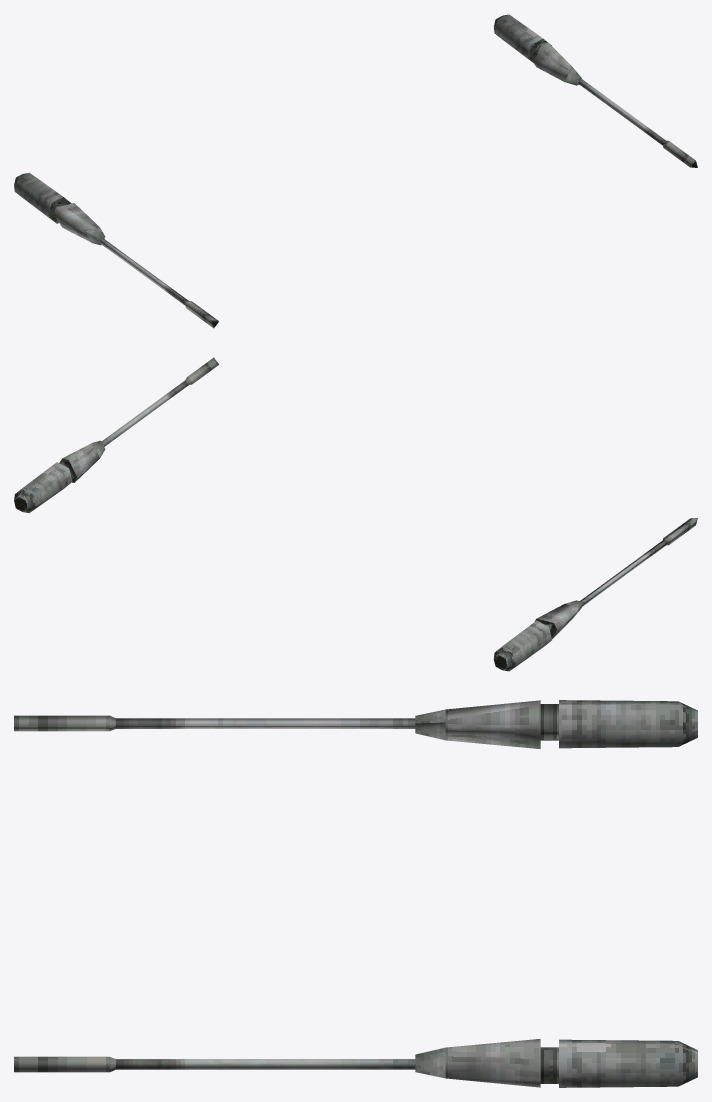
Rendered from xwing_weapon1_neg_s05_l2.fbx.
3 renders of one model, top to bottom at view 1: azimuth 30°, elevation 25°; view 2: azimuth 150°, elevation 25°; view 3: azimuth 270°, elevation 25°, orthographic. The views are drawn at different scales.
Parts seen in each view (by area): view 1: mesh_node; view 2: mesh_node; view 3: mesh_node.
Part boxes in pixels (bbox=[...]): mesh_node: bbox=[14, 14, 697, 328]; mesh_node: bbox=[14, 357, 697, 671]; mesh_node: bbox=[14, 700, 697, 1087].
Bounding box in the file's own units: 13.08 × 1.65 × 8.72.
1 material, 1 textured.
